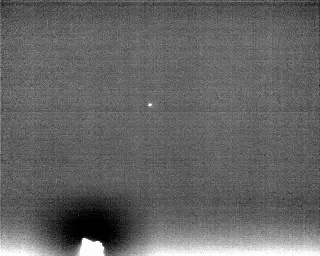BIRD: (146, 100, 154, 109)
